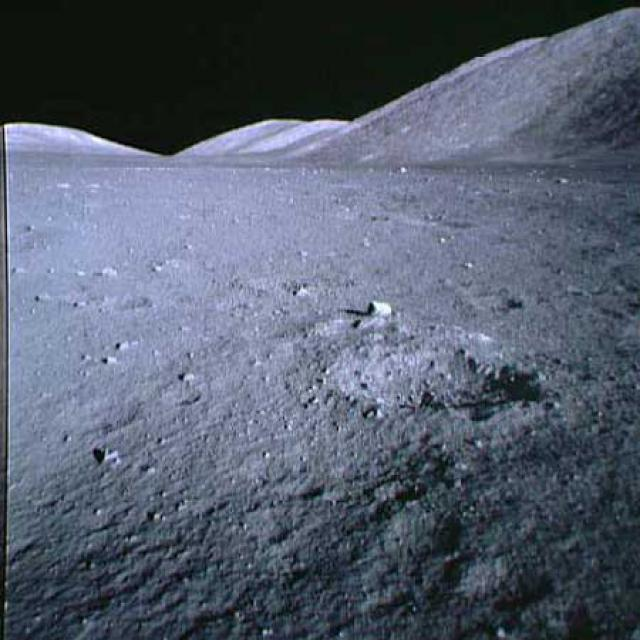crater: (348, 343, 516, 412)
rock: (358, 300, 396, 316)
